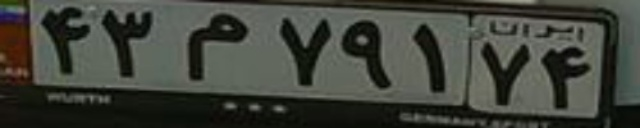1: (410, 21, 446, 93)
3: (98, 9, 161, 79)
4: (38, 6, 90, 76), (540, 46, 592, 110)
7: (276, 17, 332, 86), (479, 40, 531, 106)
9: (337, 19, 393, 90)
mim: (183, 11, 249, 82)
